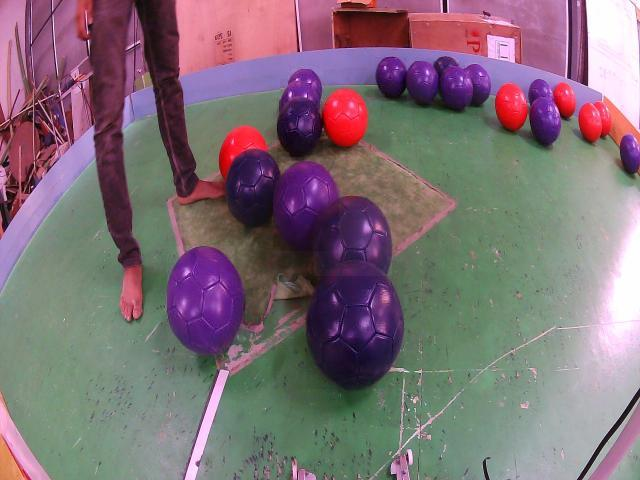jambhalya: (167, 246, 244, 355), (274, 161, 339, 251), (440, 65, 473, 110), (530, 97, 561, 144), (407, 61, 439, 104), (376, 57, 407, 98), (280, 80, 320, 110), (288, 70, 323, 101), (465, 64, 491, 105), (620, 134, 640, 173), (529, 78, 552, 105)
kaalyya: (306, 262, 404, 389), (314, 196, 392, 276), (225, 148, 281, 227), (277, 98, 323, 157), (435, 57, 458, 78)
